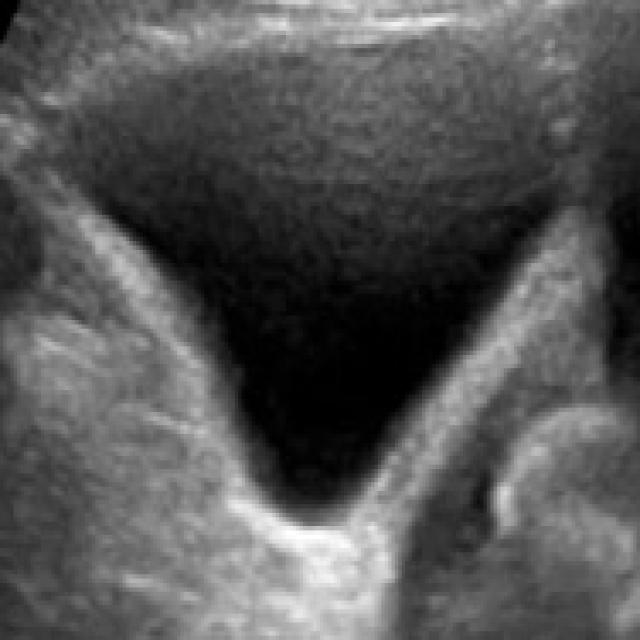bladder: (22, 9, 598, 628)
